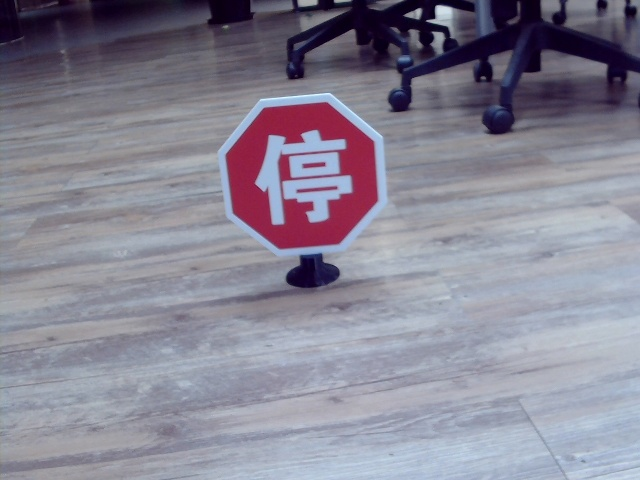stop: (251, 126, 359, 222)
